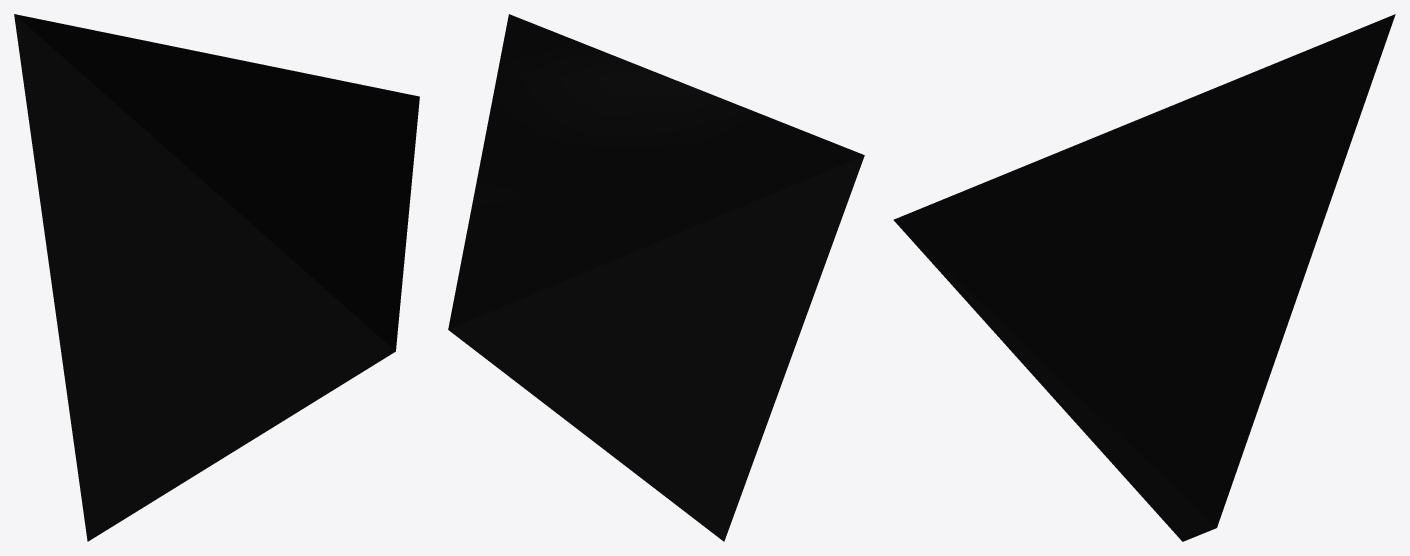
3 renders of one model, left to right at view 1: azimuth 30°, elevation 25°; view 2: azimuth 150°, elevation 25°; view 3: azimuth 270°, elevation 25°, orthographic. The views are drawn at different scales.
Bounding box in the file's own units: 0.1237 × 0.1887 × 0.1659.
Materials: 1 (1 with a texture image).
